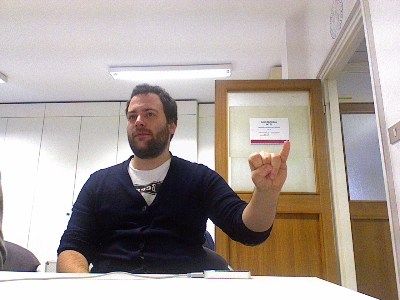小指: (246, 138, 291, 191)
